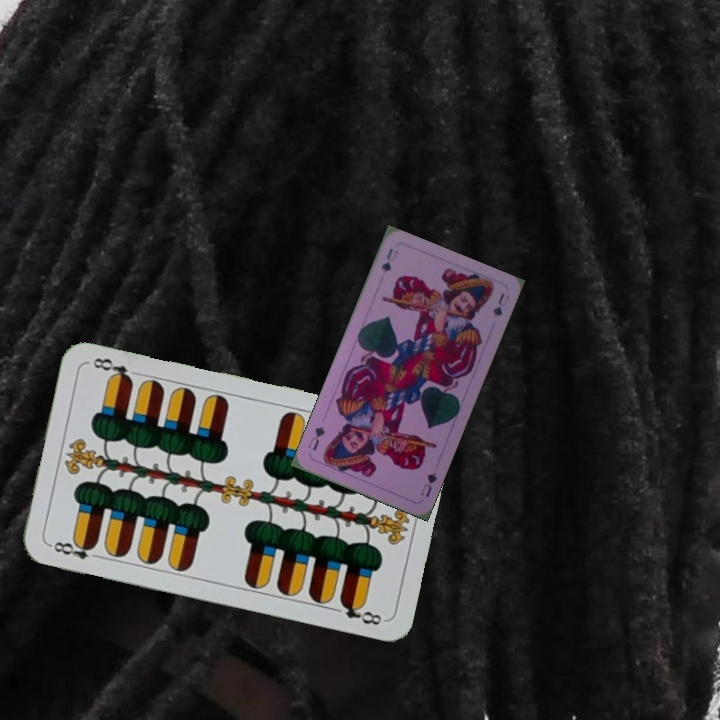E8: (45, 536, 104, 562)
GU: (377, 244, 401, 275), (417, 468, 440, 500)
